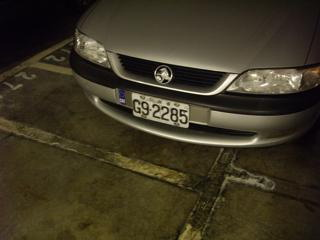plate: (129, 91, 190, 131)
